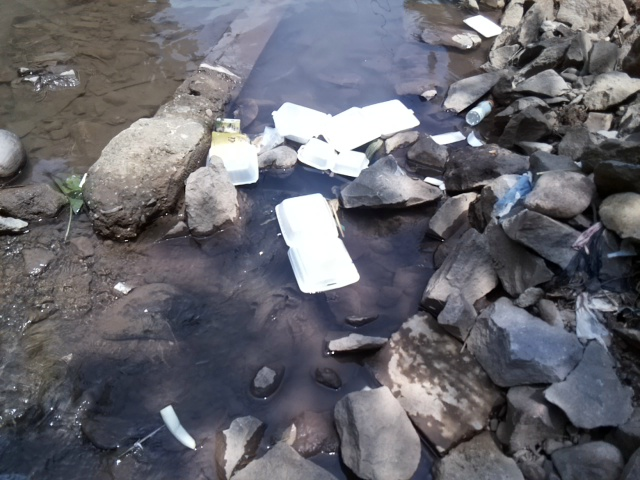Sampah_Botol_Plastik: (466, 99, 494, 128)
Sampah_Styrofoam: (266, 97, 425, 176), (272, 192, 367, 293), (202, 136, 262, 187), (461, 13, 503, 39)
